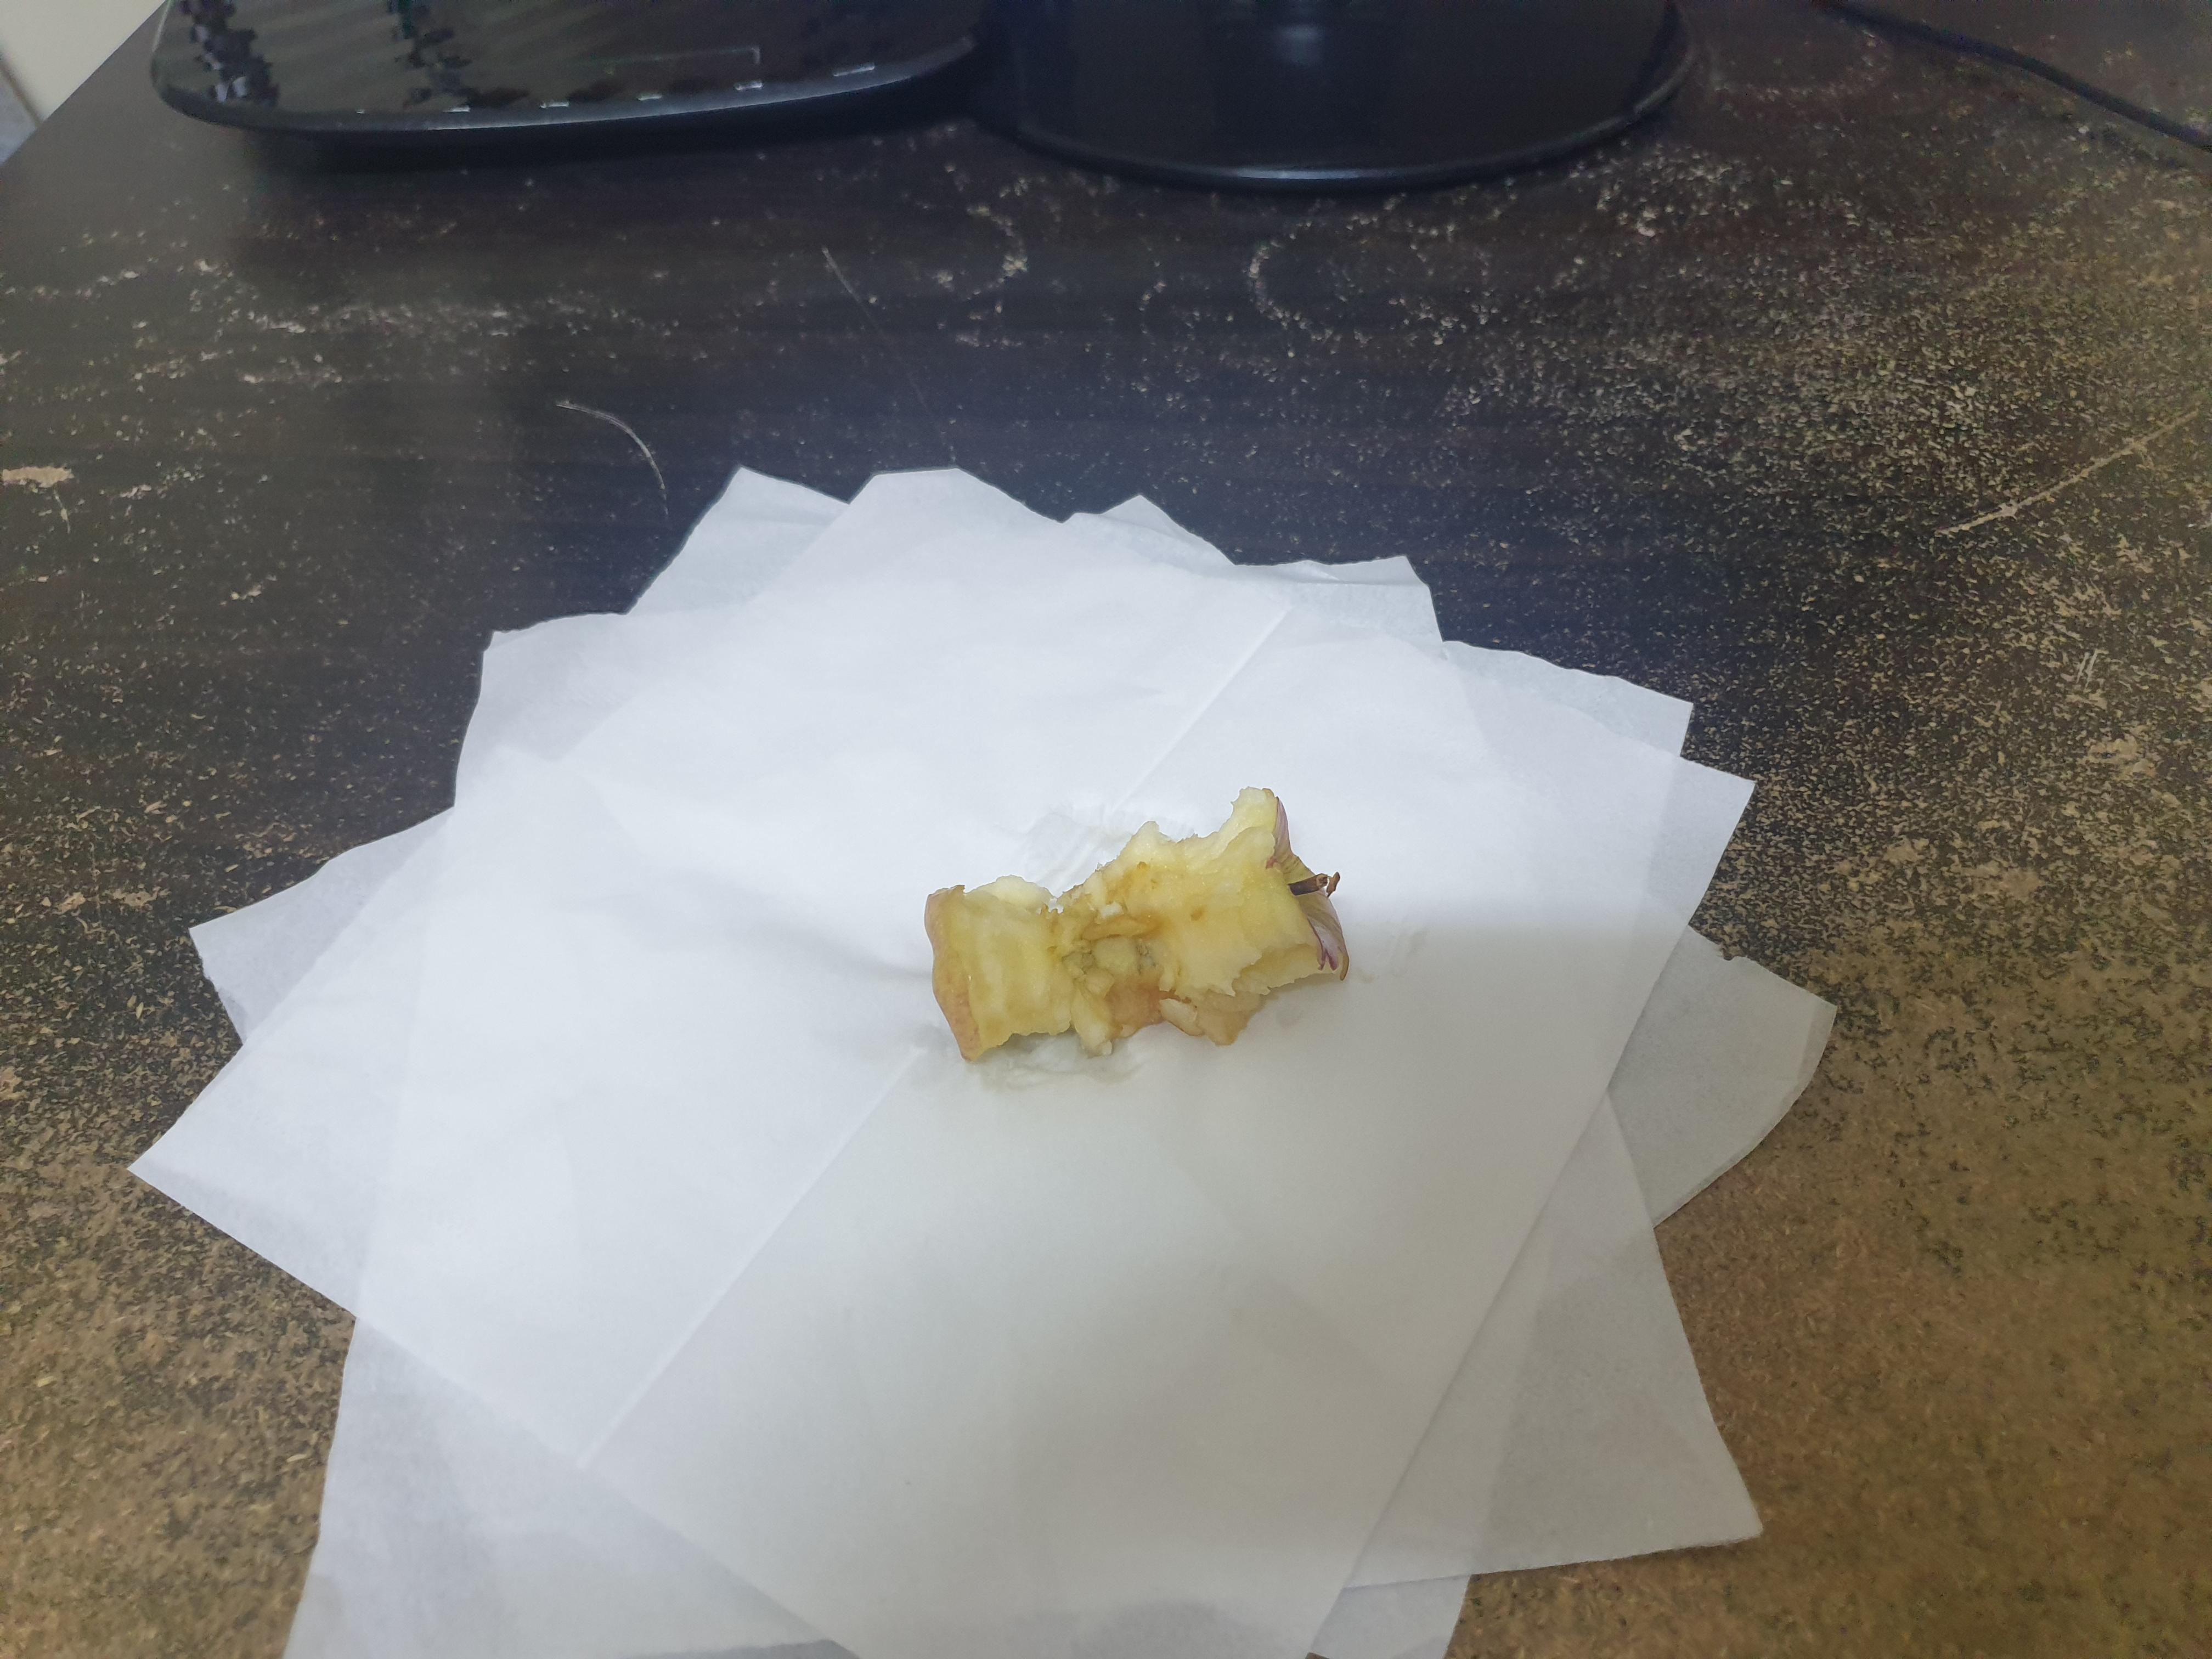Apple: (907, 777, 1381, 1093)
